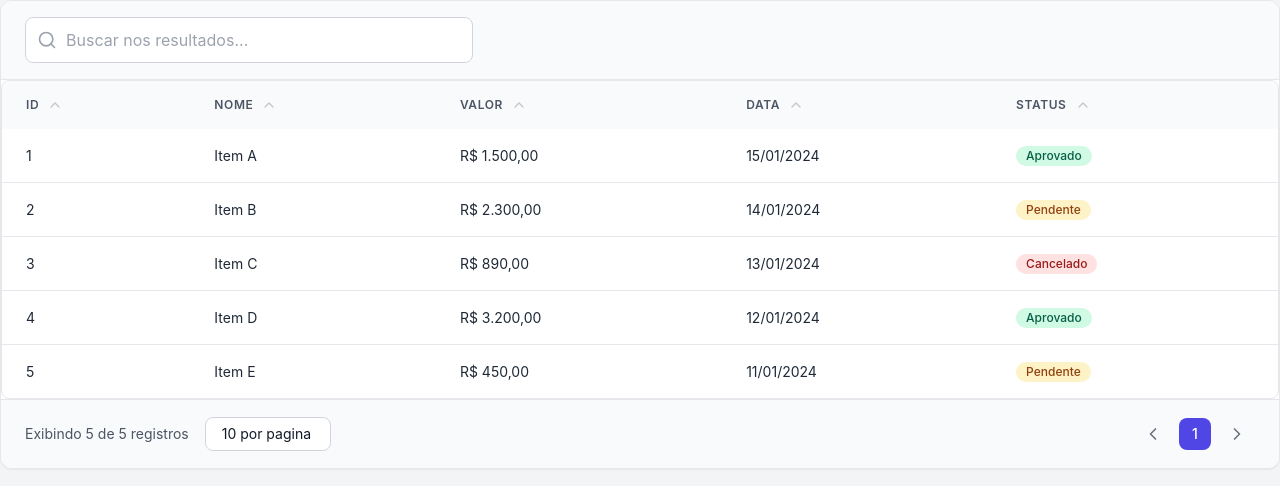
Test: DataTable › Sorting › should remove sort on third click
Three clicks should remove sort
Click the column heading "Nome".
click(234, 104)  # box left=190, top=81, right=436, bottom=129
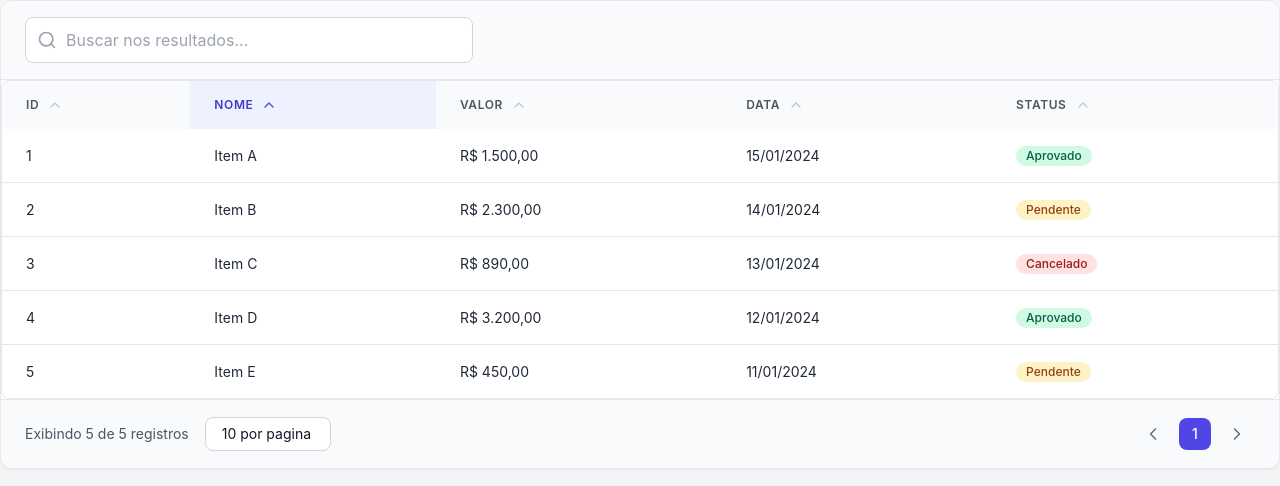
Click the column heading "Nome".
click(313, 105)  # box left=190, top=81, right=436, bottom=129
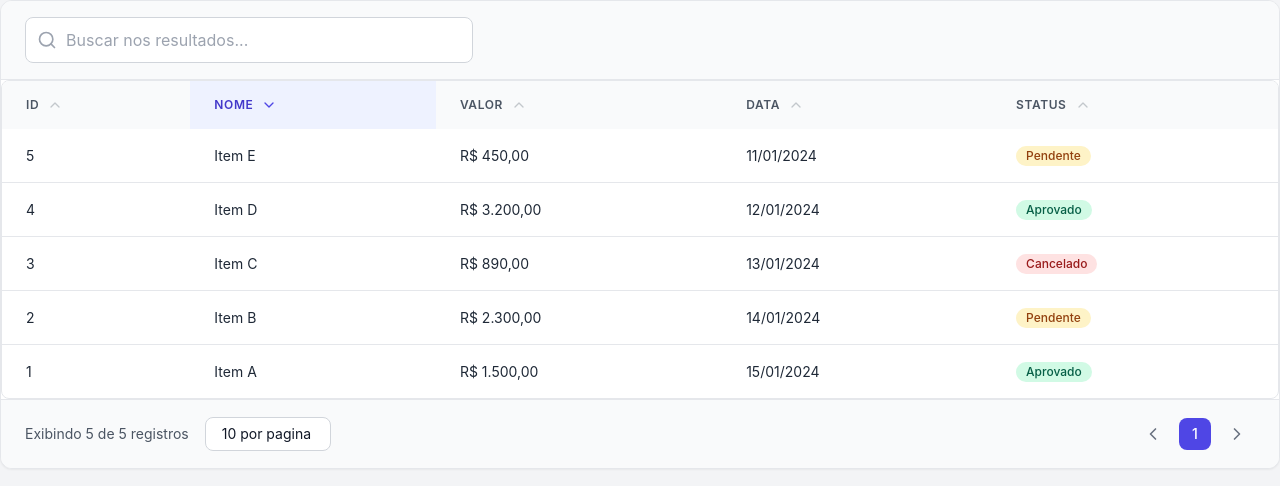
Click the column heading "Nome".
click(313, 105)  # box left=190, top=81, right=436, bottom=129
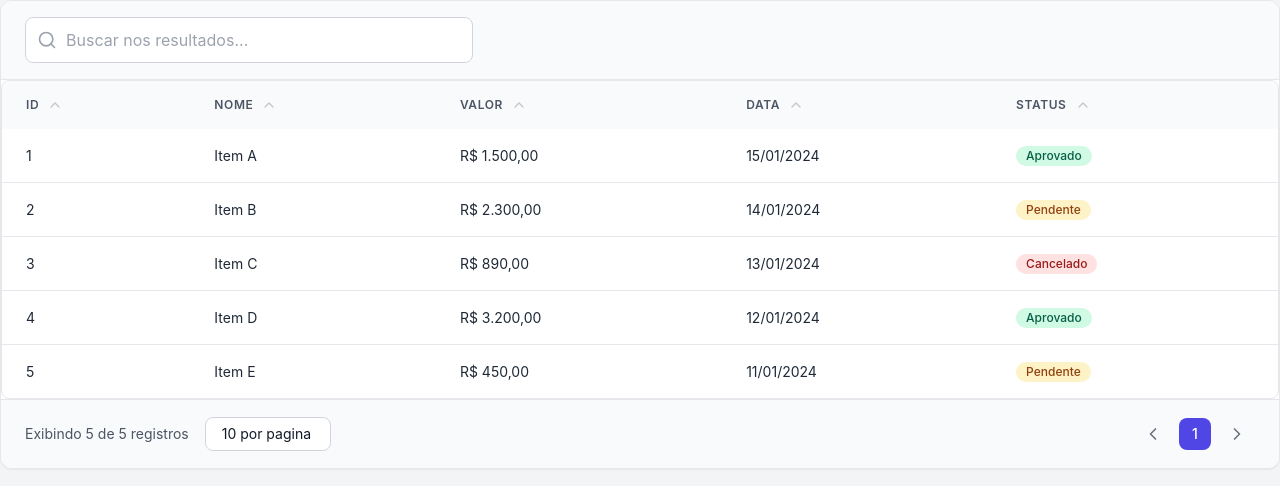
Result: the cell "Item A" is shown at left=190, top=129, right=436, bottom=182
